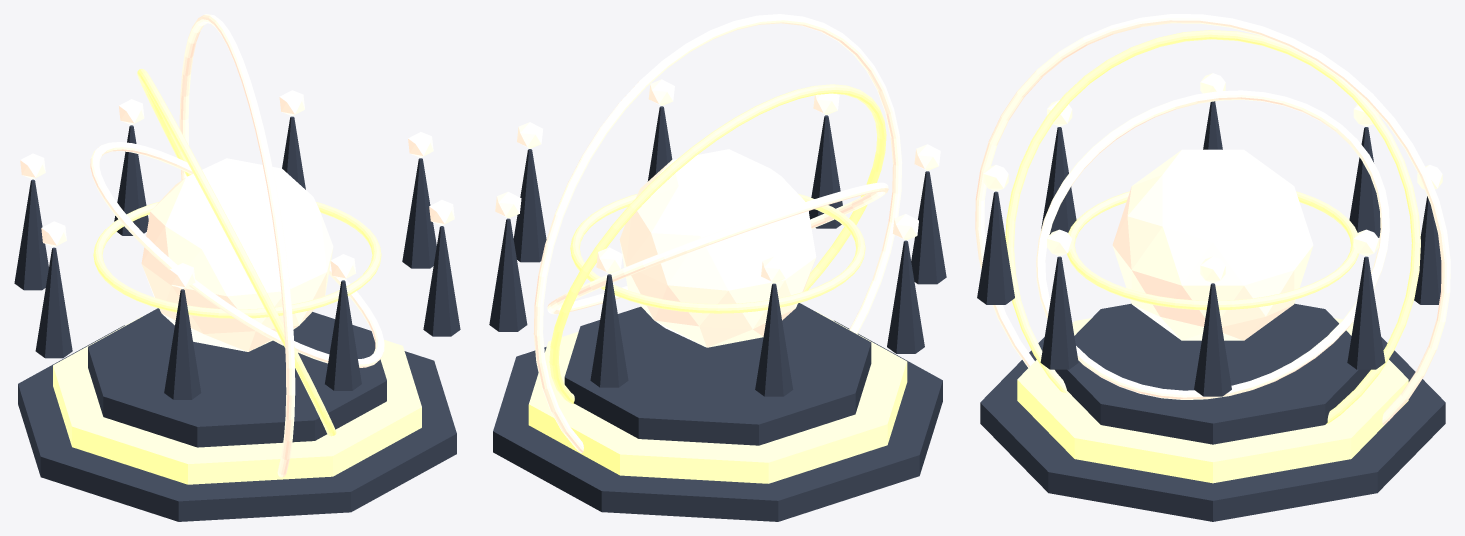
Rendered from gpu-blender-v37.glb.
The picture shows the model from 3 angles, left to right: view 1: azimuth 30°, elevation 25°; view 2: azimuth 150°, elevation 25°; view 3: azimuth 270°, elevation 25°; orthographic projection. The views are drawn at different scales.
Visible parts, largest first — view 1: Cylinder.002, SovereignCore_osint-scout-skill, Cylinder, Cylinder.001, Torus.003, Torus.001, Torus.002, Torus, Cone.004, Cone.007, Cone.005, Cone.006 (+12 smaller); view 2: Cylinder.002, SovereignCore_osint-scout-skill, Cylinder, Cylinder.001, Torus.003, Torus.002, Torus.001, Torus, Cone.002, Cone.003, Cone.001, Cone.004 (+11 smaller); view 3: SovereignCore_osint-scout-skill, Cylinder.002, Cylinder, Cylinder.001, Torus.003, Torus.002, Torus.001, Torus, Cone, Cone.001, Cone.007, Cone.006 (+8 smaller).
Boxes of the visible parts, x1,y1,x2,y2 form: Cylinder.002: [88, 308, 386, 447]; SovereignCore_osint-scout-skill: [141, 158, 333, 351]; Cylinder: [18, 325, 456, 521]; Cylinder.001: [53, 316, 421, 484]; Torus.003: [179, 14, 295, 477]; Torus.001: [90, 142, 384, 367]; Torus.002: [137, 69, 336, 436]; Torus: [93, 202, 381, 318]; Cone.004: [35, 247, 72, 358]; Cone.007: [423, 226, 460, 336]; Cone.005: [164, 289, 201, 399]; Cone.006: [325, 280, 361, 390]; Cylinder.002: [564, 303, 871, 445]; SovereignCore_osint-scout-skill: [619, 149, 816, 347]; Cylinder: [493, 320, 942, 521]; Cylinder.001: [528, 311, 907, 483]; Torus.003: [533, 14, 902, 452]; Torus.002: [549, 84, 886, 403]; Torus.001: [547, 182, 888, 314]; Torus: [570, 193, 865, 313]; Cone.002: [590, 274, 628, 387]; Cone.003: [755, 283, 793, 396]; Cone.001: [489, 218, 527, 331]; Cone.004: [887, 240, 924, 353]; SovereignCore_osint-scout-skill: [1112, 149, 1313, 340]; Cylinder.002: [1055, 303, 1370, 444]; Cylinder: [980, 337, 1445, 521]; Cylinder.001: [1017, 318, 1408, 483]; Torus.003: [975, 14, 1450, 424]; Torus.002: [1005, 30, 1420, 423]; Torus.001: [1036, 90, 1389, 399]; Torus: [1067, 191, 1358, 310]; Cone: [1194, 283, 1231, 396]; Cone.001: [1347, 256, 1385, 369]; Cone.007: [1040, 256, 1078, 369]; Cone.006: [977, 191, 1014, 304].
Size of the model in its own units: 4.41 by 4.7 by 4.49.
